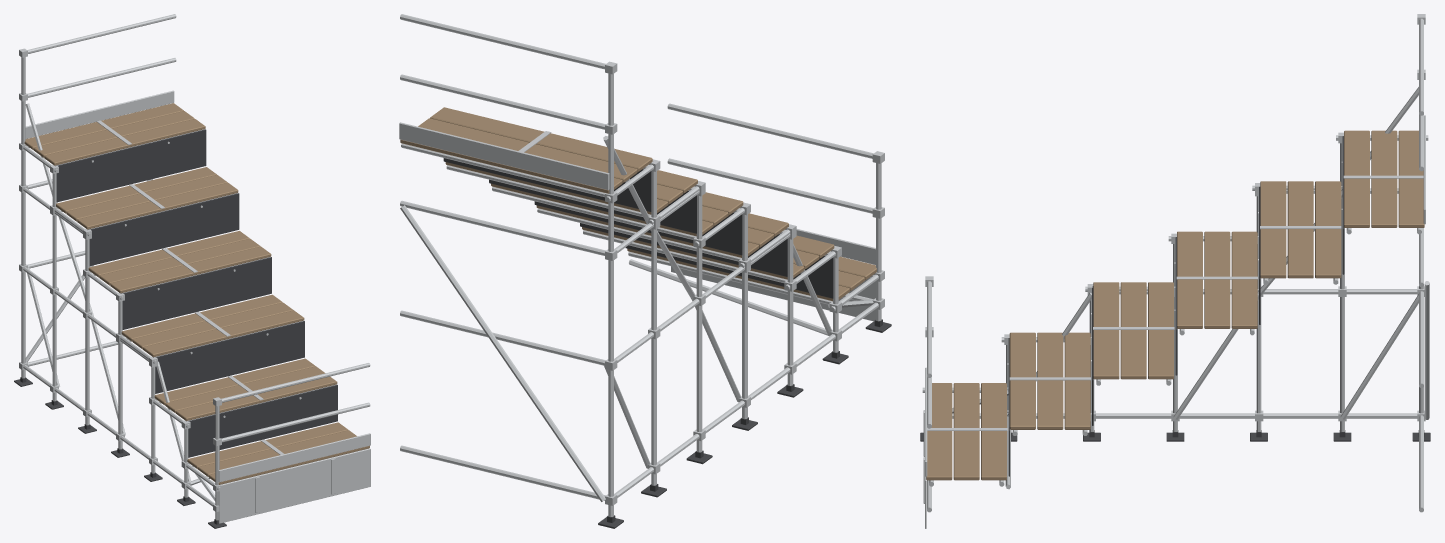
The model's file is stand_scaffold_bay.glb.
3 views of the same model, side by side, from view 1: azimuth 30°, elevation 25°; view 2: azimuth 150°, elevation 25°; view 3: azimuth 270°, elevation 25° (orthographic). The views are drawn at different scales.
Visible parts, largest first — view 1: stand_scaffold_bay; view 2: stand_scaffold_bay; view 3: stand_scaffold_bay.
Boxes of the visible parts, left/top/right/bottom form: stand_scaffold_bay: left=14, top=14, right=370, bottom=528; stand_scaffold_bay: left=399, top=14, right=891, bottom=528; stand_scaffold_bay: left=920, top=14, right=1430, bottom=528.
Size of the model in its own units: 2.08 by 4.18 by 4.58.
